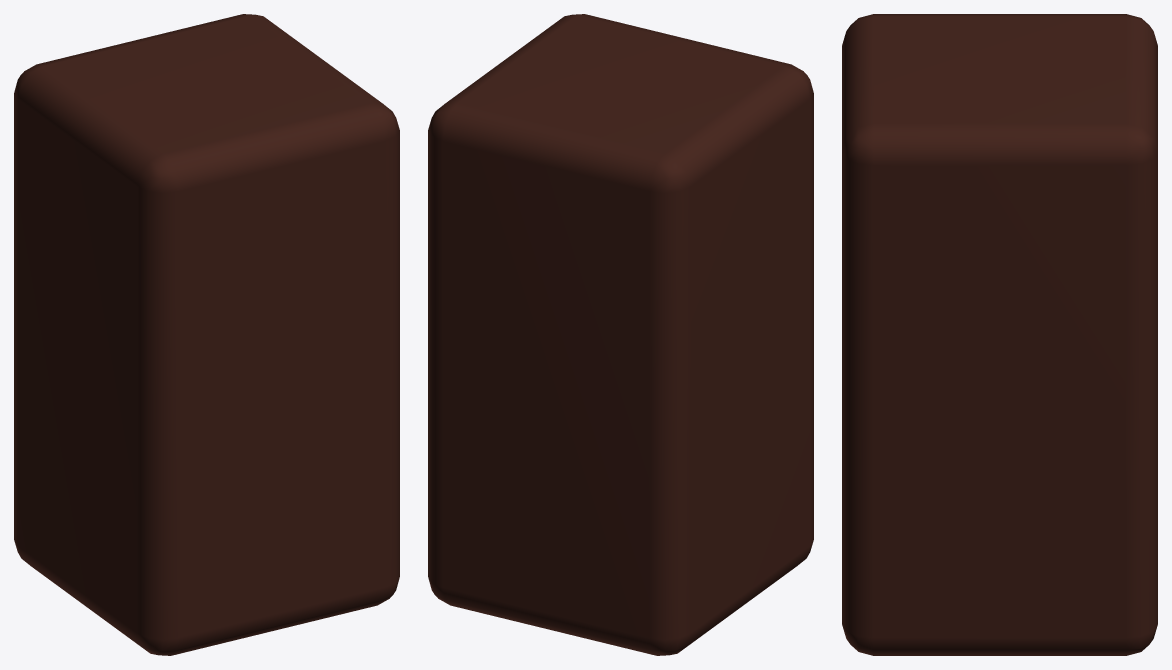
File: floor-kerb-corner.glb
3 renders of one model, left to right at view 1: azimuth 30°, elevation 25°; view 2: azimuth 150°, elevation 25°; view 3: azimuth 270°, elevation 25°, orthographic. The views are drawn at different scales.
Visible parts, largest first — view 1: floor-kerb-corner; view 2: floor-kerb-corner; view 3: floor-kerb-corner.
Part boxes in pixels (x1,y1,x2,y2): floor-kerb-corner: (14, 14, 399, 655); floor-kerb-corner: (428, 14, 813, 655); floor-kerb-corner: (842, 14, 1157, 655).
Size of the model in its own units: 0.2 by 0.37 by 0.2.
